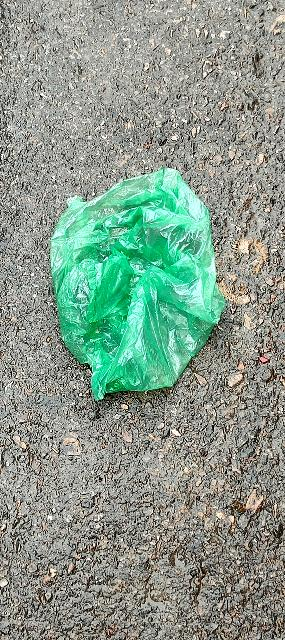polythene: (52, 169, 232, 395)
